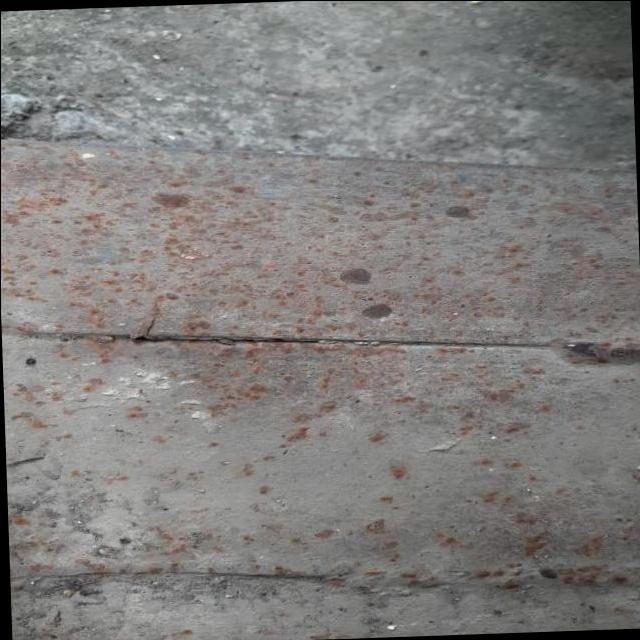defect: (113, 314, 346, 349)
